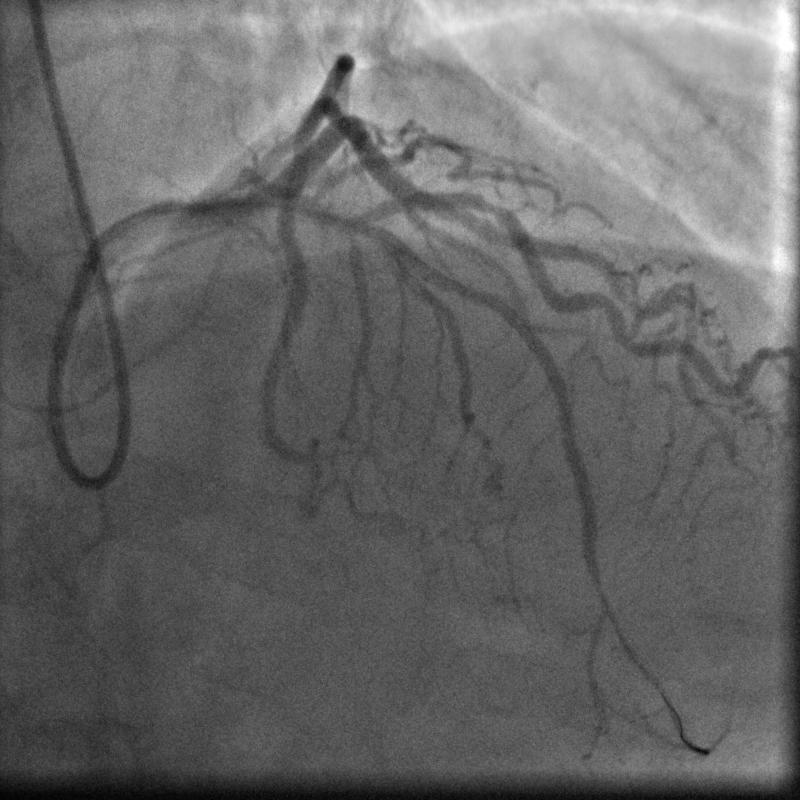Stenosis: (467, 187, 516, 224)
